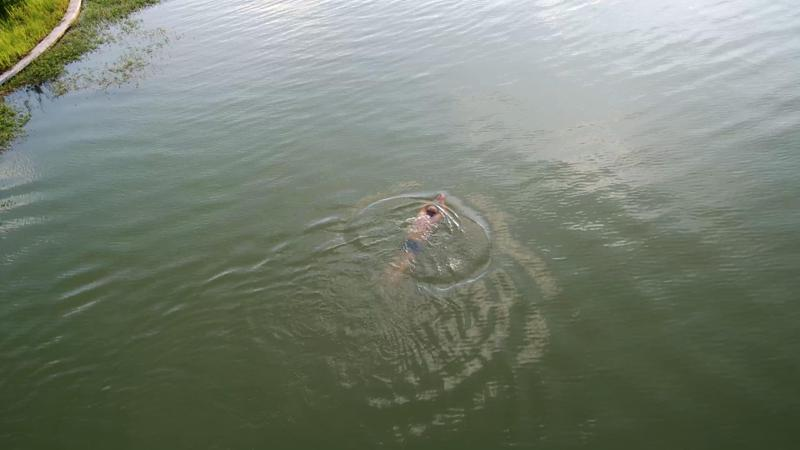swimmers: (385, 190, 446, 278)
